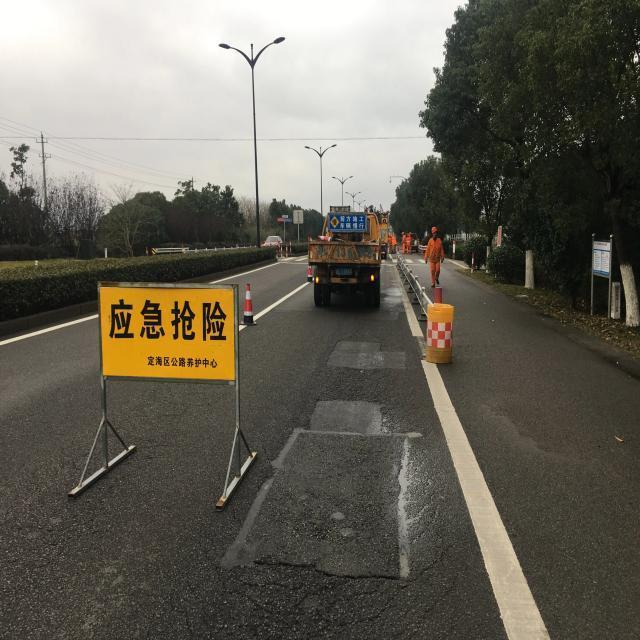pothole: (256, 386, 424, 592), (327, 343, 414, 378)
